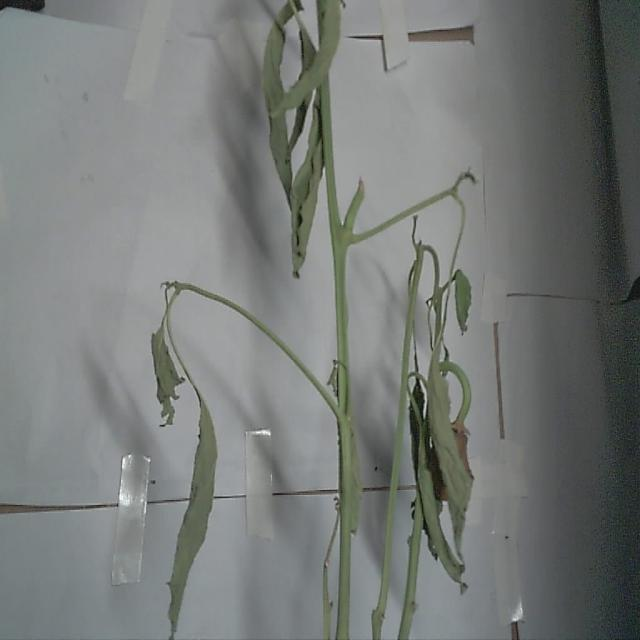Leaf: (164, 346, 217, 638), (409, 362, 468, 588), (261, 2, 302, 220), (148, 313, 184, 424)
